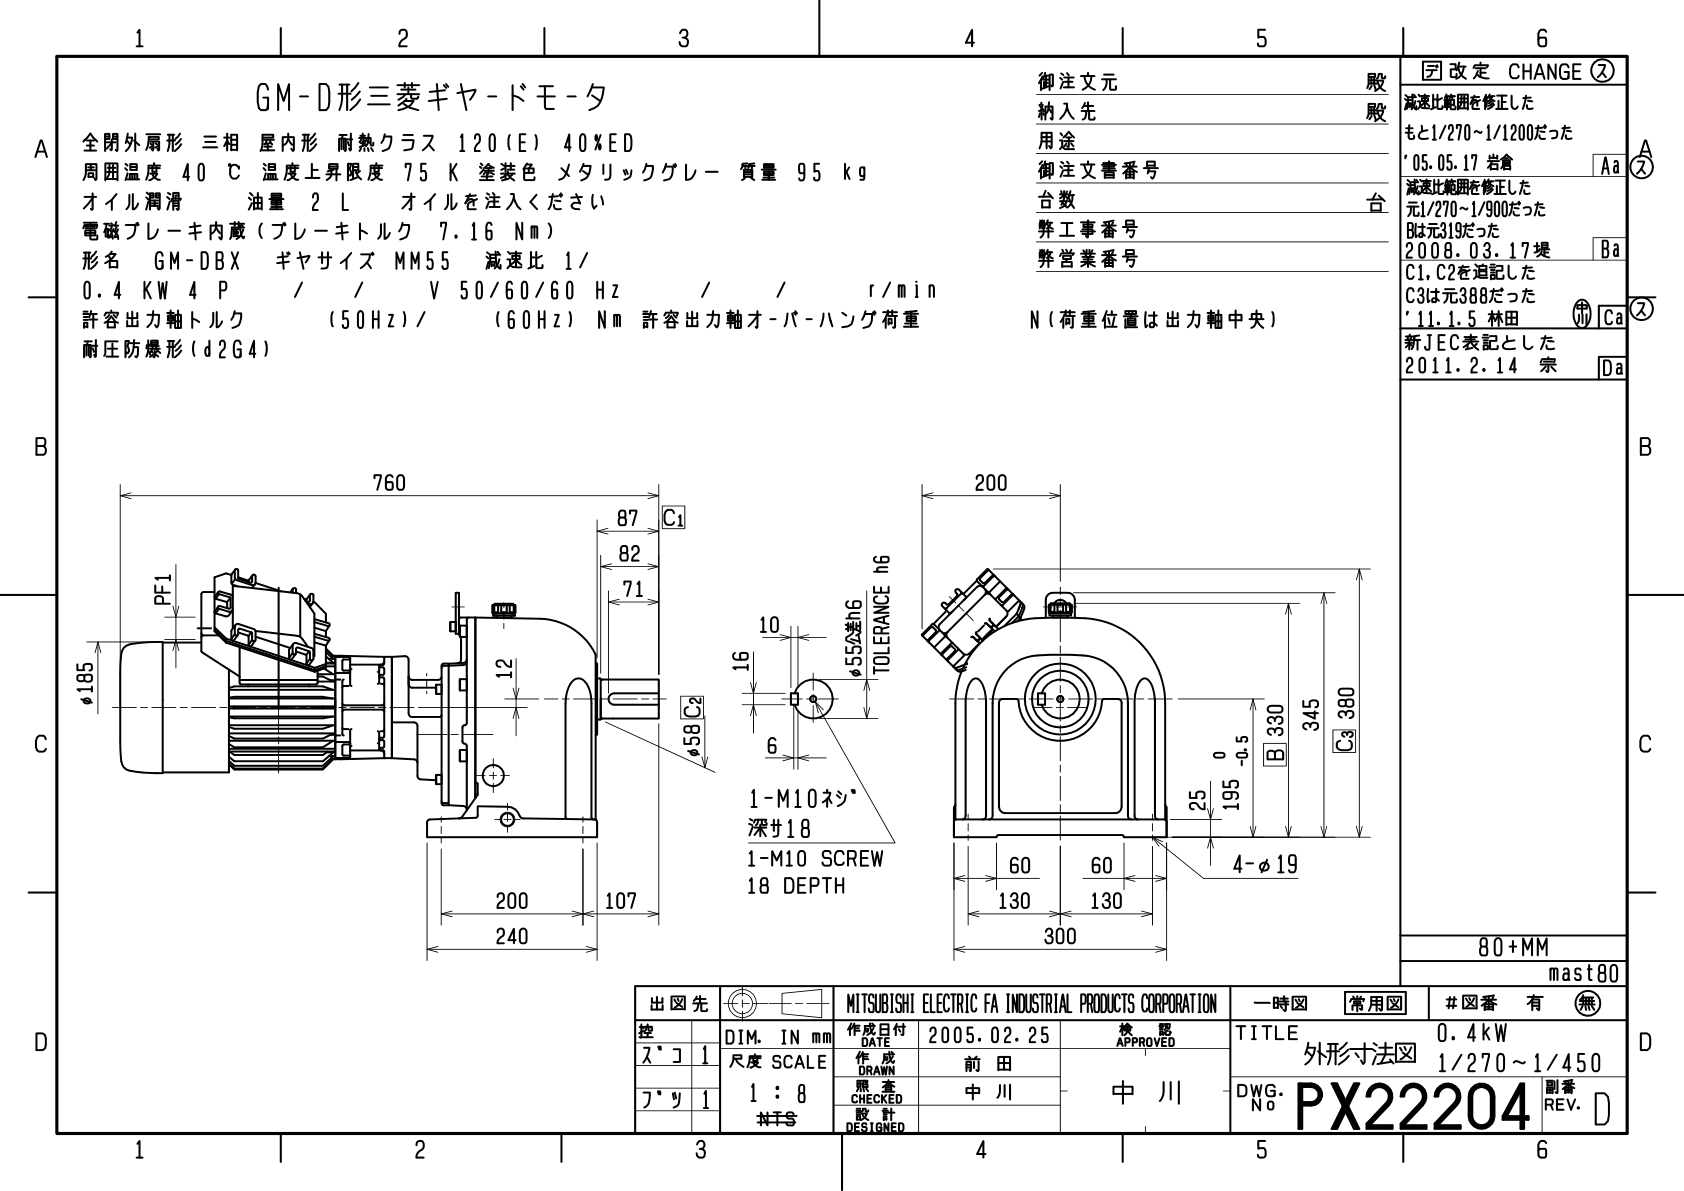GM_D_耐圧屋内_三相_脚: (70, 421, 1386, 969)
